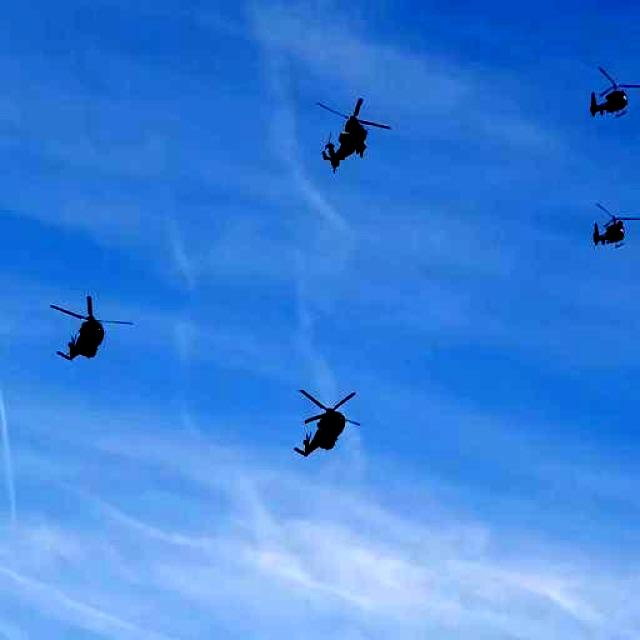drone: (46, 282, 134, 379), (319, 81, 382, 182), (579, 49, 640, 140), (285, 382, 350, 461), (579, 199, 634, 260)
